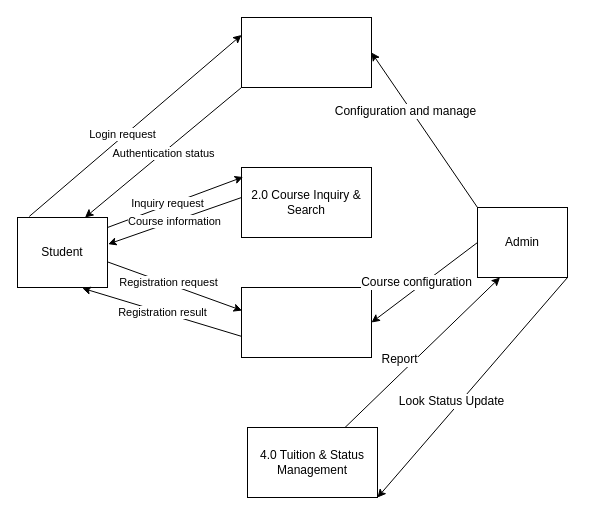
The diagram is 593 pixels wide and 523 high, and some of its shapes have lost their labels. The box of each missing label's shape, as (x1, y1, x2, y2) in pixels:
1.0 User Management & Login: (240, 16, 372, 88)
3.0 Course Registration Process: (240, 286, 372, 358)
